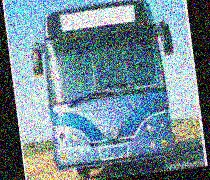bus: (25, 0, 188, 180)
